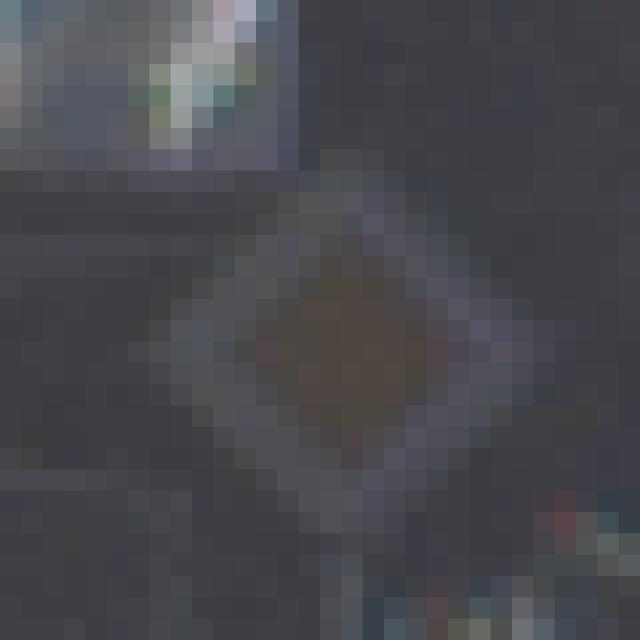Main Road: (129, 129, 534, 534)
